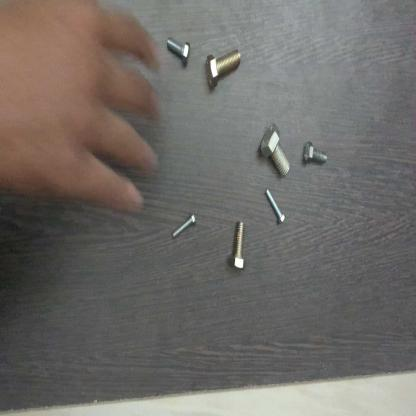Bolts: (258, 122, 293, 180), (202, 48, 245, 88), (162, 34, 192, 72), (230, 220, 249, 276), (263, 182, 287, 226), (301, 138, 328, 174), (170, 209, 197, 237)
